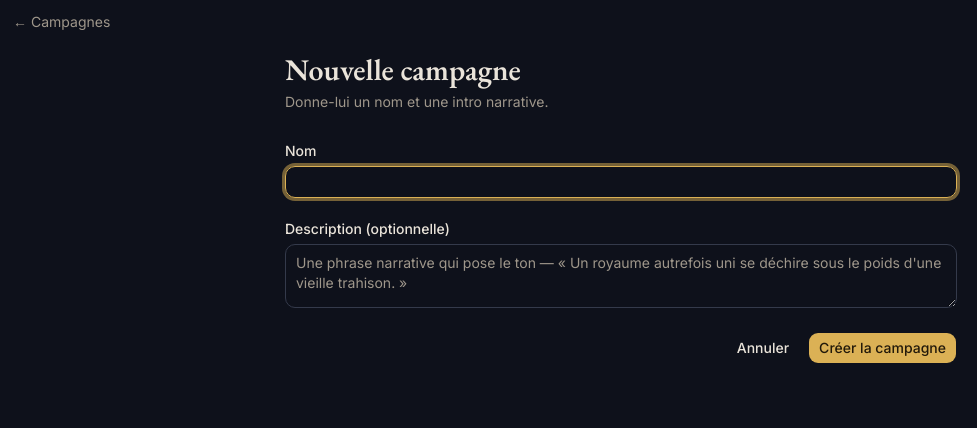
Test: /jdr/campaigns/new page › surfaces 'Tu as déjà une campagne avec ce nom' on duplicate 409
The width and height of the screenshot is (977, 428).
Type "Royaumes Brisés" into the field labelled "Nom". click: point(621, 182)
box: x1=285 y1=166 x2=957 y2=198
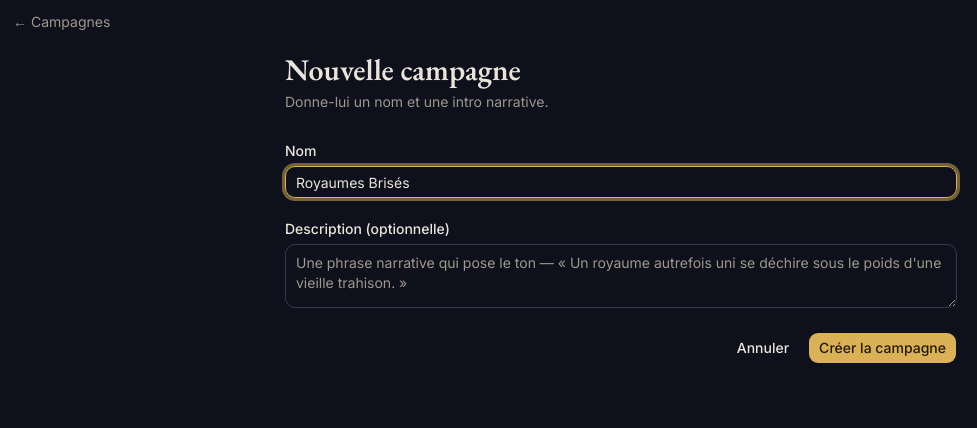
Click the button "Créer la campagne". click: point(883, 348)
box: x1=808 y1=332 x2=957 y2=364
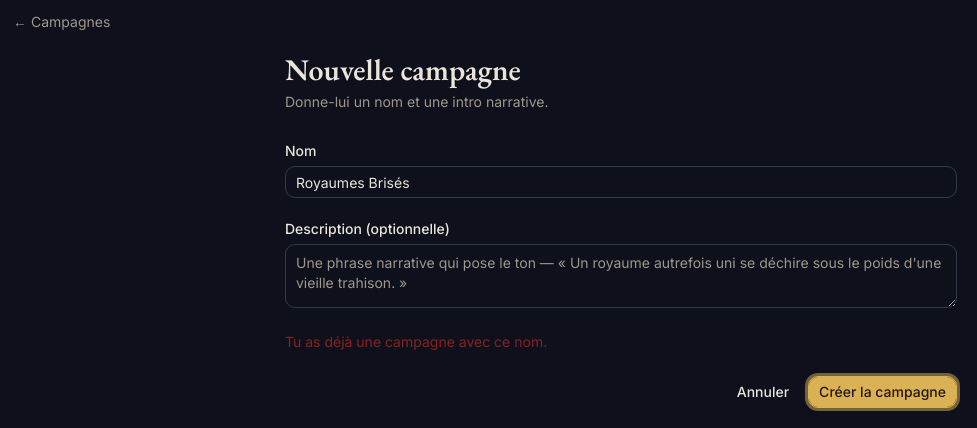
Result: the text "Tu as déjà une campagne avec ce nom." is shown at x1=285 y1=333 x2=547 y2=350
